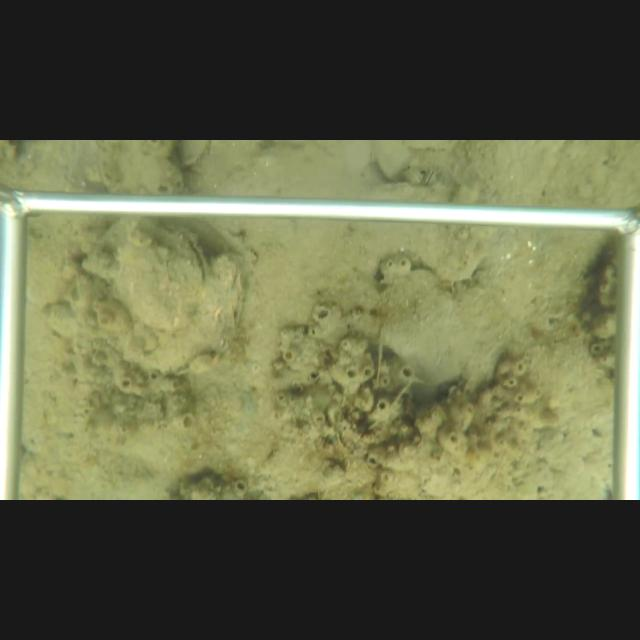Oyster-Closed: (115, 253, 250, 373), (79, 214, 208, 333), (372, 142, 411, 184), (177, 142, 211, 170)
